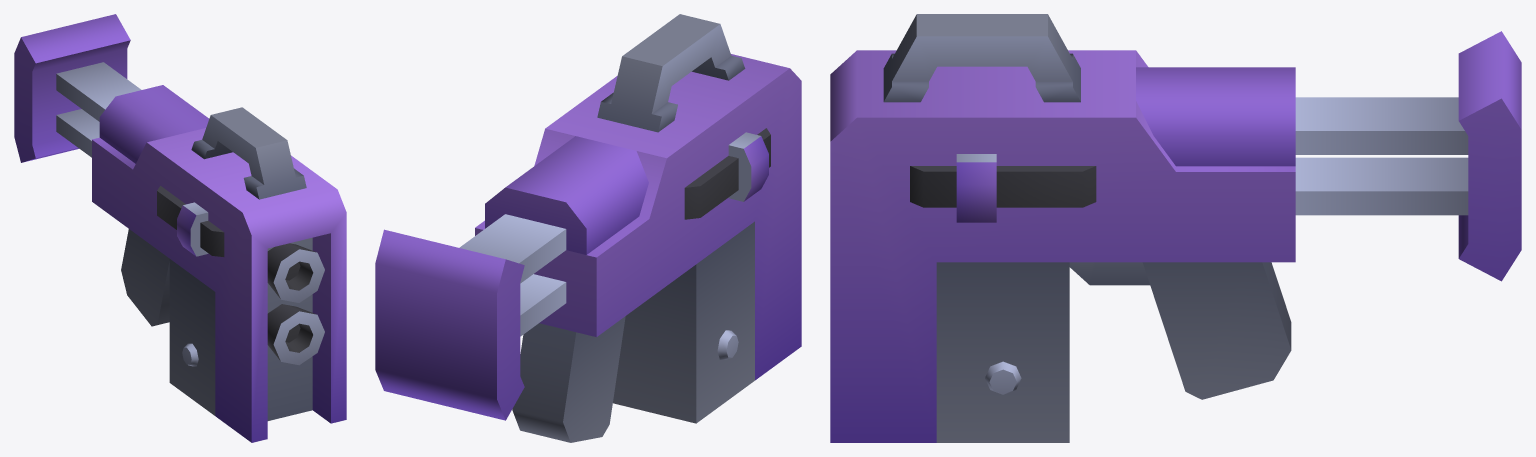
The model's file is weapon_smg.glb.
3 views of the same model, side by side, from view 1: azimuth 30°, elevation 25°; view 2: azimuth 150°, elevation 25°; view 3: azimuth 270°, elevation 25° (orthographic). The views are drawn at different scales.
Parts seen in each view (by area): view 1: blaster-i; view 2: blaster-i; view 3: blaster-i.
Boxes of the visible parts, x1,y1,x2,y2 form: blaster-i: (14, 14, 346, 442); blaster-i: (375, 14, 801, 442); blaster-i: (830, 14, 1521, 442).
Size of the model in its own units: 9.52 by 18.46 by 30.
